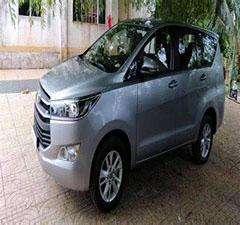car: (26, 11, 230, 218)
